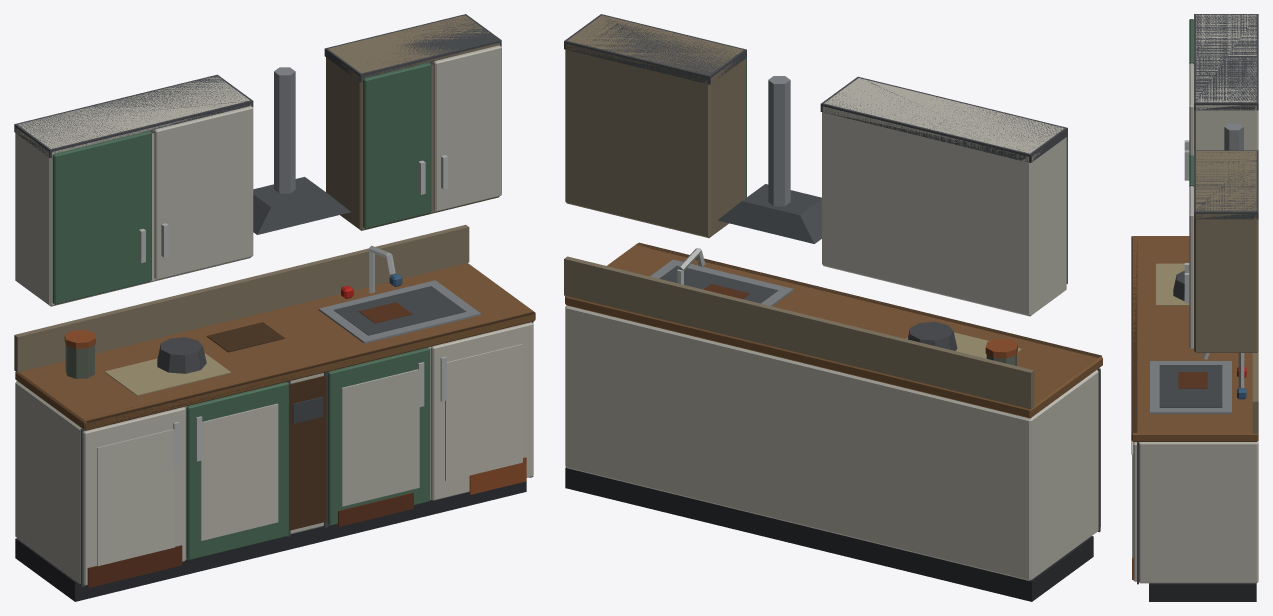
File: furn_kitchen_run.fbx
3 renders of one model, left to right at view 1: azimuth 30°, elevation 25°; view 2: azimuth 150°, elevation 25°; view 3: azimuth 270°, elevation 25°, orthographic. The views are drawn at different scales.
Visible parts, largest first — view 1: furn_kitchen_run, Door_3, Door_1, Door_4, Door_2; view 2: furn_kitchen_run; view 3: furn_kitchen_run, Door_4.
Part boxes in pixels (x1,y1,x2,y2): furn_kitchen_run: (14,14,535,601); Door_3: (327,347,430,526); Door_1: (83,407,185,587); Door_4: (431,322,533,500); Door_2: (186,382,288,560); furn_kitchen_run: (564,14,1102,601); furn_kitchen_run: (1131,14,1258,601); Door_4: (1131,440,1136,581).
Size of the model in its own units: 2.4 by 2.2 by 0.65.
